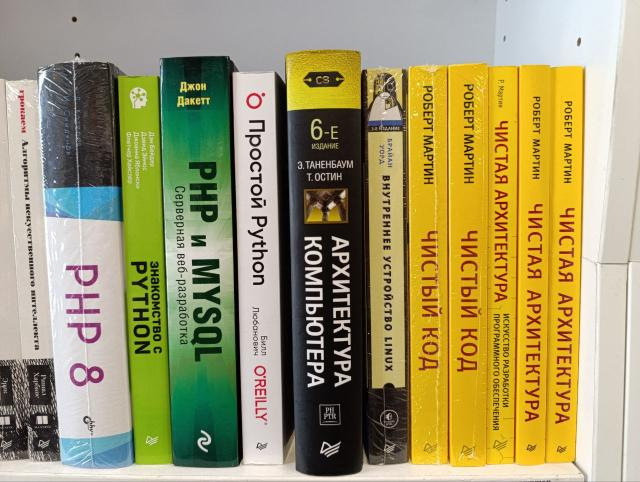book-s-spine: (39, 62, 133, 466), (285, 51, 363, 476), (159, 55, 239, 468), (118, 75, 173, 466), (5, 79, 61, 462), (232, 71, 284, 466), (363, 67, 408, 466), (408, 65, 449, 465), (448, 62, 488, 467), (546, 66, 583, 463), (516, 64, 550, 465), (487, 66, 518, 465)
